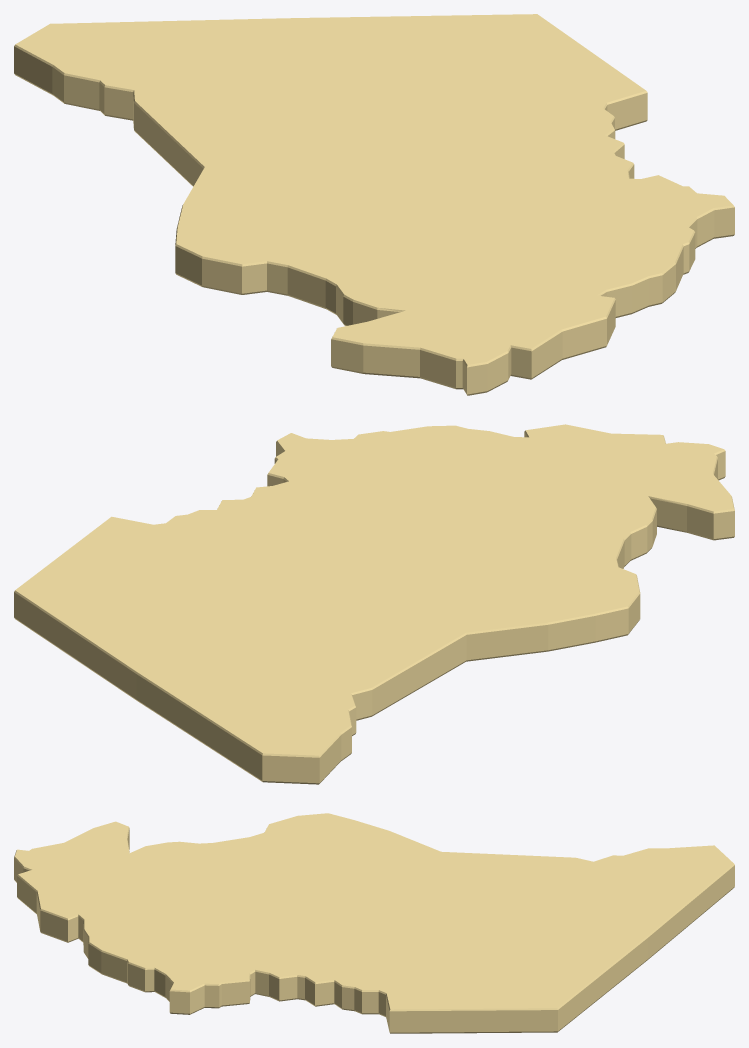
File: TCD.glb
3 renders of one model, top to bottom at view 1: azimuth 30°, elevation 25°; view 2: azimuth 150°, elevation 25°; view 3: azimuth 270°, elevation 25°, orthographic. The views are drawn at different scales.
Bounding box in the file's own units: 1.18 × 0.068 × 1.83.
